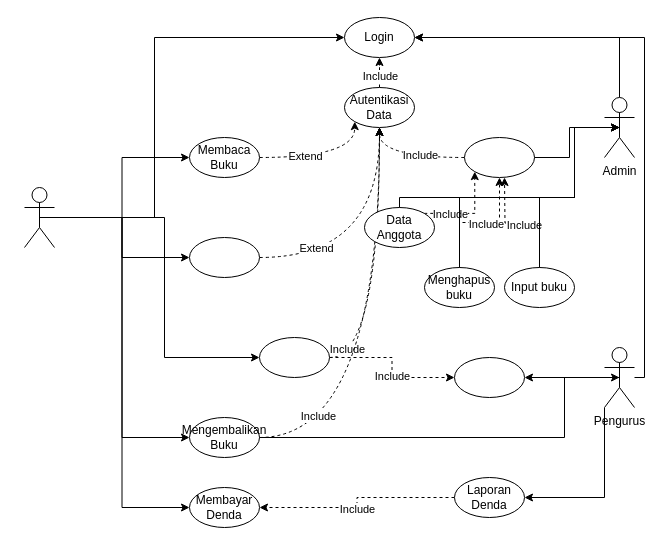
The diagram is 670 pixels wide and 545 high, and some of its shapes have lost their labels. The centre of each missing label's shape, as x and y in pixels:
"Anggota" goes at pixel 39 217.
"Database Perpus" goes at pixel 499 157.
"Meminjam Buku" goes at pixel 294 357.
"Mencari Buku" goes at pixel 224 257.
"Pemesanan Buku" goes at pixel 489 377.
